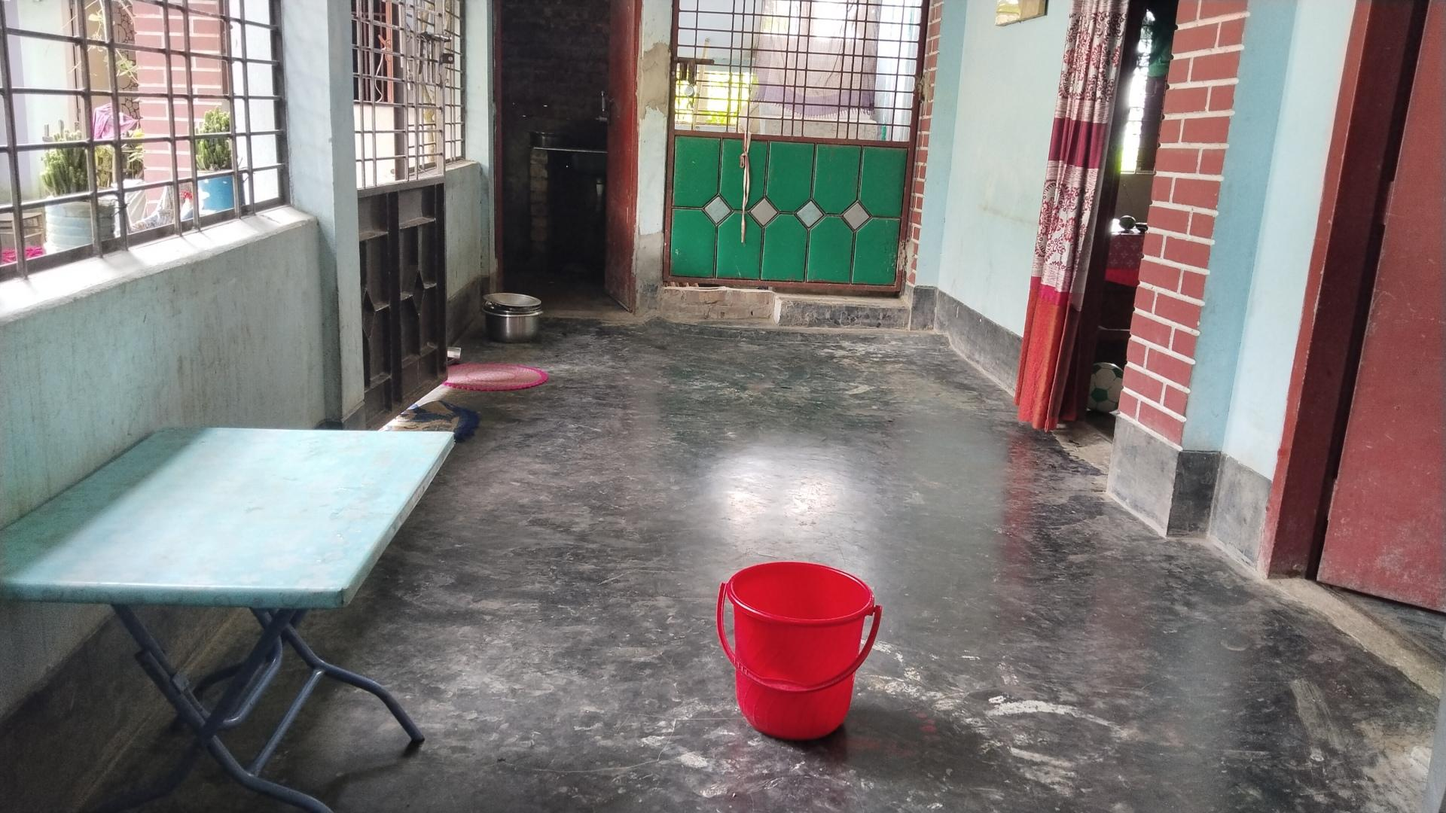Bucket: (716, 552, 871, 737)
Door: (681, 0, 905, 288), (488, 2, 637, 297)
Table: (0, 412, 475, 806)
